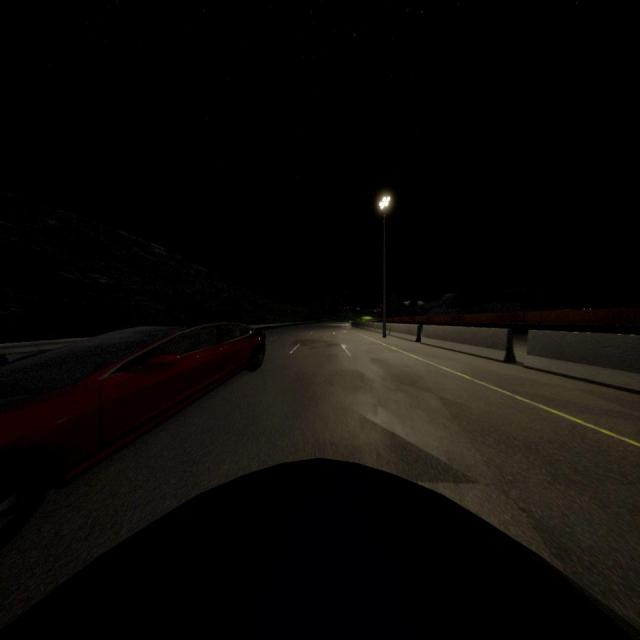Vehicle: (0, 459, 640, 640), (0, 320, 265, 497)
